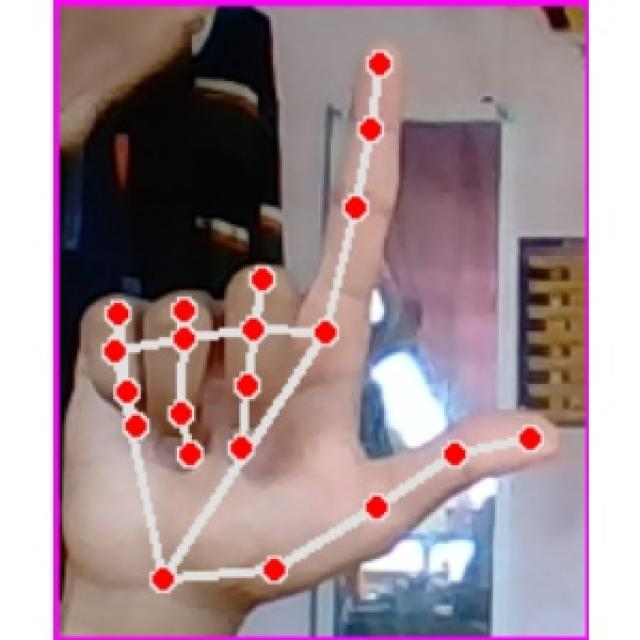L: (69, 35, 574, 626)
